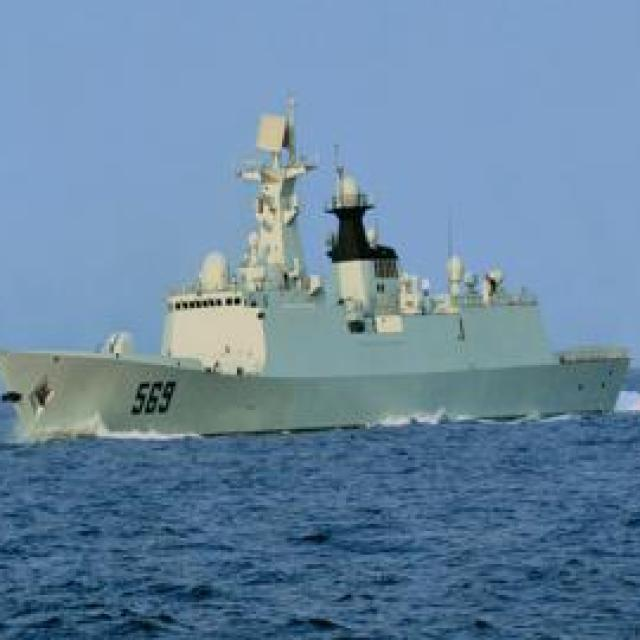navalvessels: (0, 102, 628, 438)
